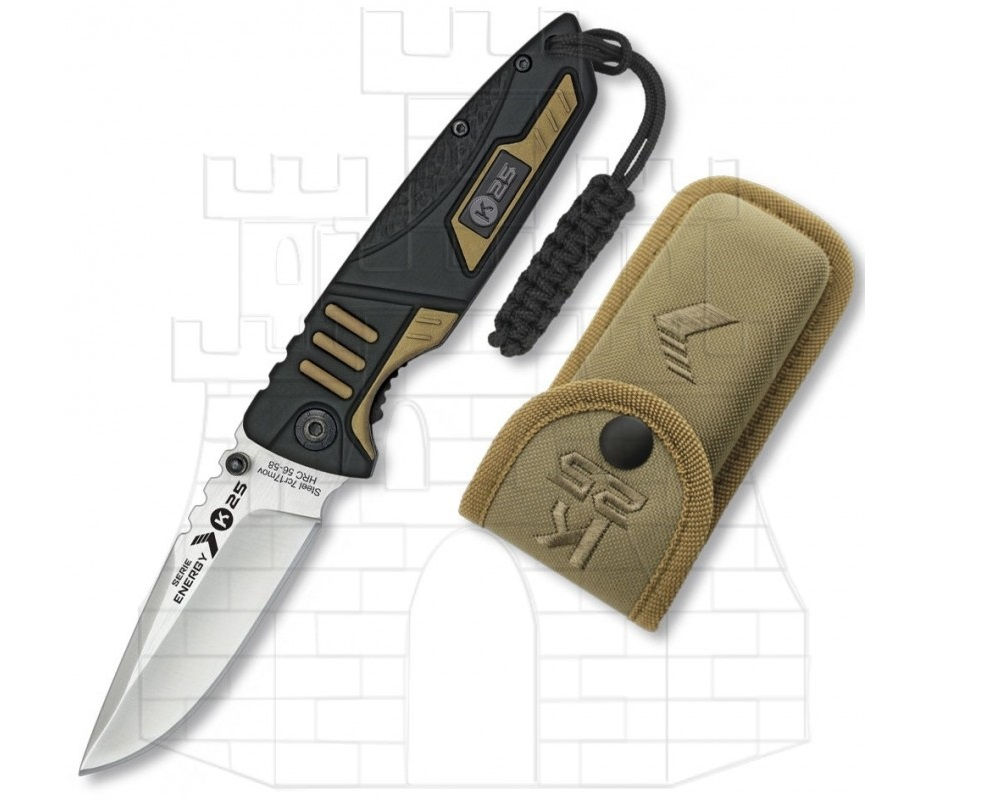knife: (69, 377, 395, 789)
